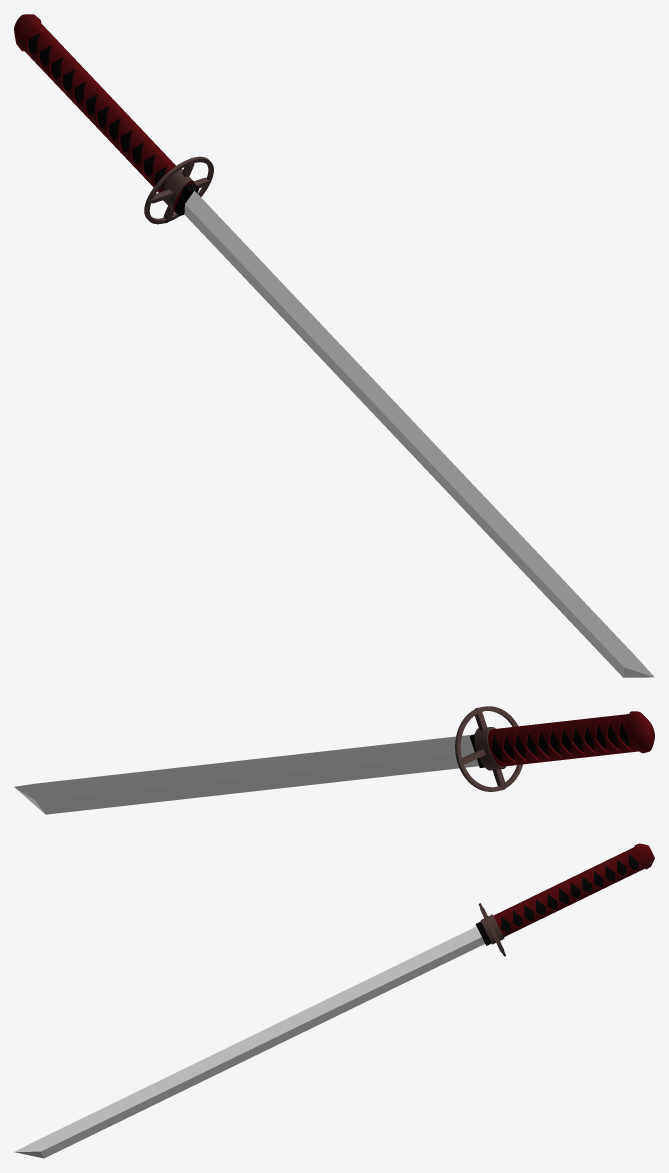
File: Katana.glb
The picture shows the model from 3 angles, top to bottom: view 1: azimuth 30°, elevation 25°; view 2: azimuth 210°, elevation 25°; view 3: azimuth 270°, elevation 25°; orthographic projection. The views are drawn at different scales.
Visible parts, largest first — view 1: Plane, Cylinder, Cylinder.001; view 2: Plane, Cylinder, Cylinder.001, Circle, Cylinder.002, Cube; view 3: Plane, Cylinder, Cylinder.001.
Boxes of the visible parts, x1,y1,x2,y2 form: Plane: (184,191,654,677); Cylinder: (14,14,194,212); Cylinder.001: (28,33,167,187); Plane: (14,734,478,814); Cylinder: (488,711,654,766); Cylinder.001: (491,722,629,763); Circle: (455,706,522,791); Cylinder.002: (474,727,505,770); Cube: (460,707,505,790); Plane: (14,926,484,1158); Cylinder: (489,843,654,938); Cylinder.001: (501,854,638,933).
Size of the model in its own units: 16.82 by 34.72 by 76.85.
